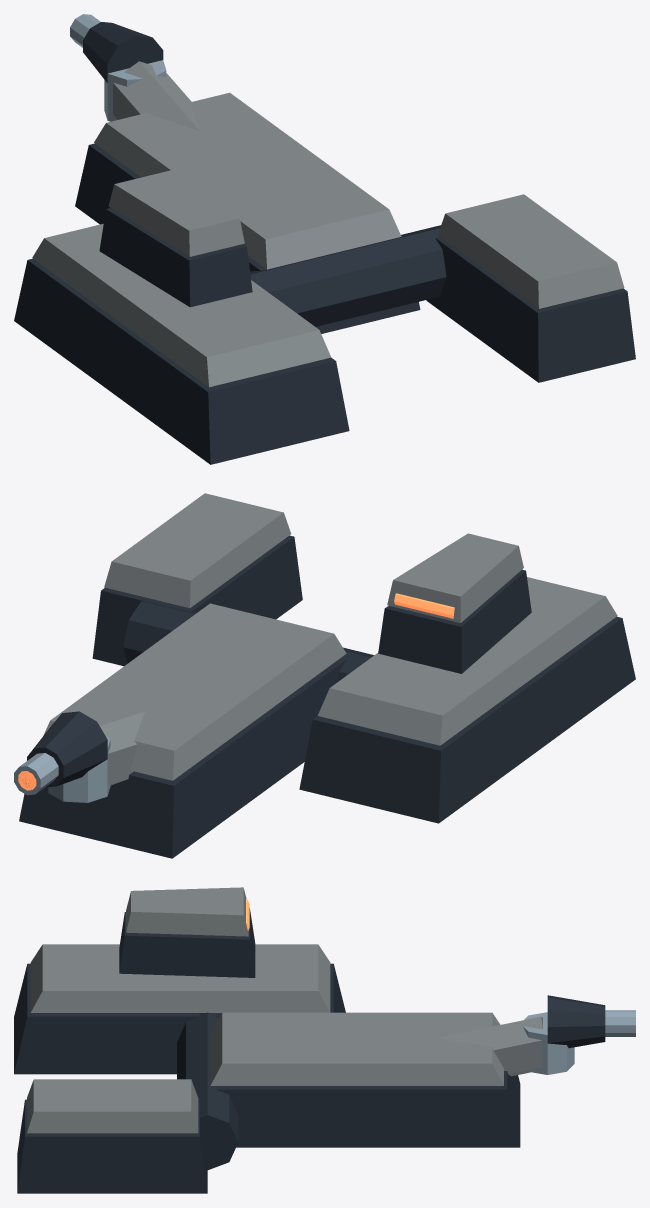
The model's file is c3_ufo.glb.
3 renders of one model, top to bottom at view 1: azimuth 30°, elevation 25°; view 2: azimuth 150°, elevation 25°; view 3: azimuth 270°, elevation 25°, orthographic. The views are drawn at different scales.
Visible parts, largest first — view 1: ufo / Armor, ufo / Chassis, ufo / Titanium; view 2: ufo / Chassis, ufo / Armor, ufo / Titanium, ufo / Energy; view 3: ufo / Chassis, ufo / Armor, ufo / Titanium.
Part boxes in pixels (box(x1,y1,x2,y2)): ufo / Armor: box(32, 61, 624, 387); ufo / Chassis: box(14, 22, 635, 464); ufo / Titanium: box(70, 14, 166, 121); ufo / Chassis: box(19, 535, 635, 858); ufo / Armor: box(43, 493, 617, 785); ufo / Titanium: box(14, 736, 110, 802); ufo / Energy: box(18, 593, 454, 790); ufo / Chassis: box(14, 908, 605, 1193); ufo / Armor: box(27, 887, 542, 1133); ufo / Titanium: box(523, 1010, 635, 1074).
Bounding box in the file's own units: 1.23 × 0.473 × 1.83.
